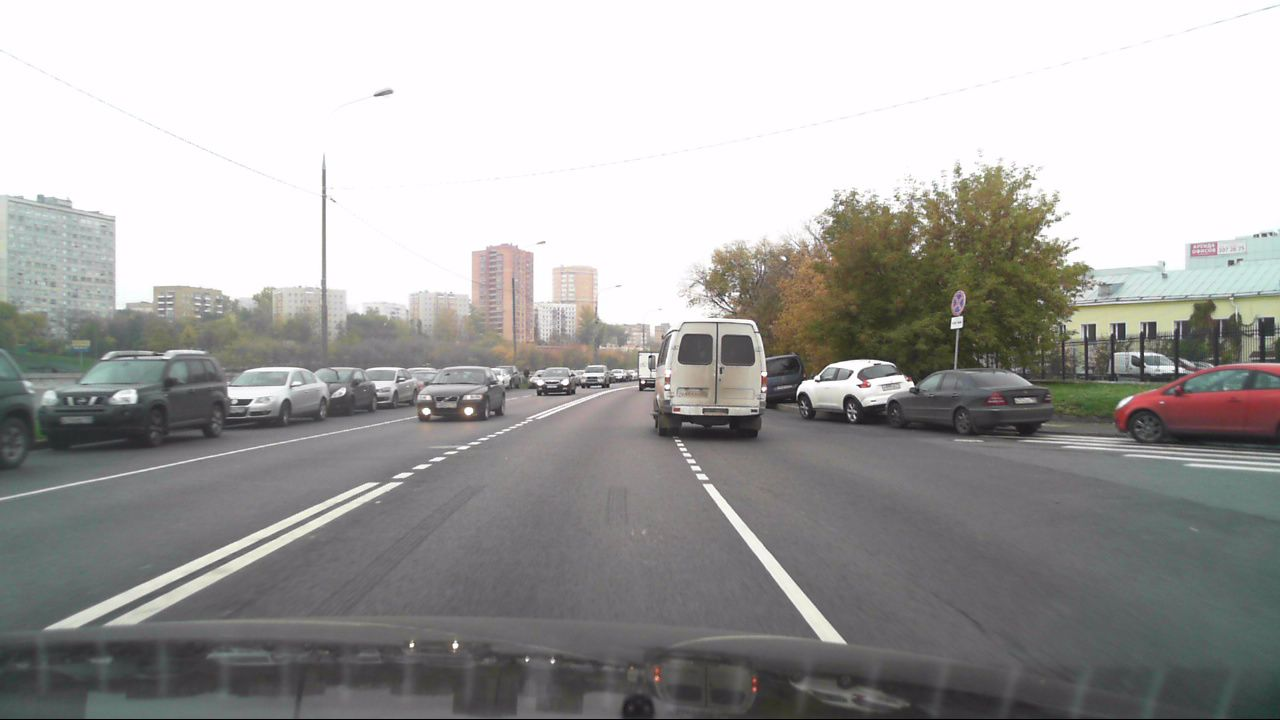No Parking: (947, 288, 967, 315)
